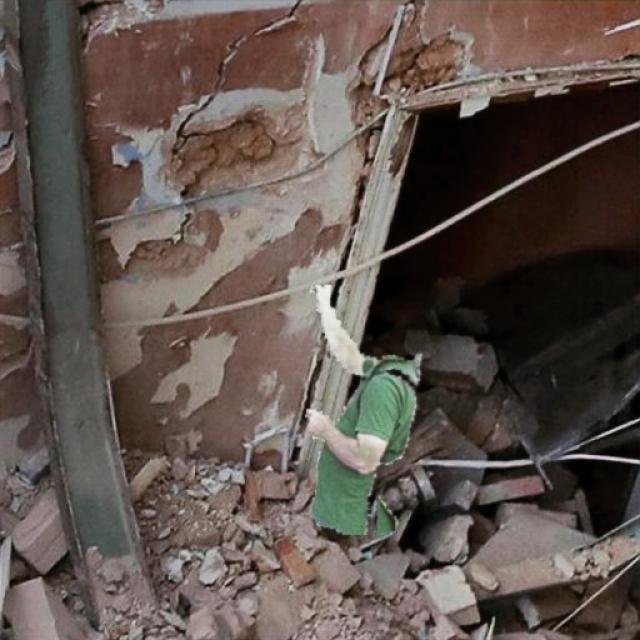Person in Rubble: (305, 285, 421, 534)
